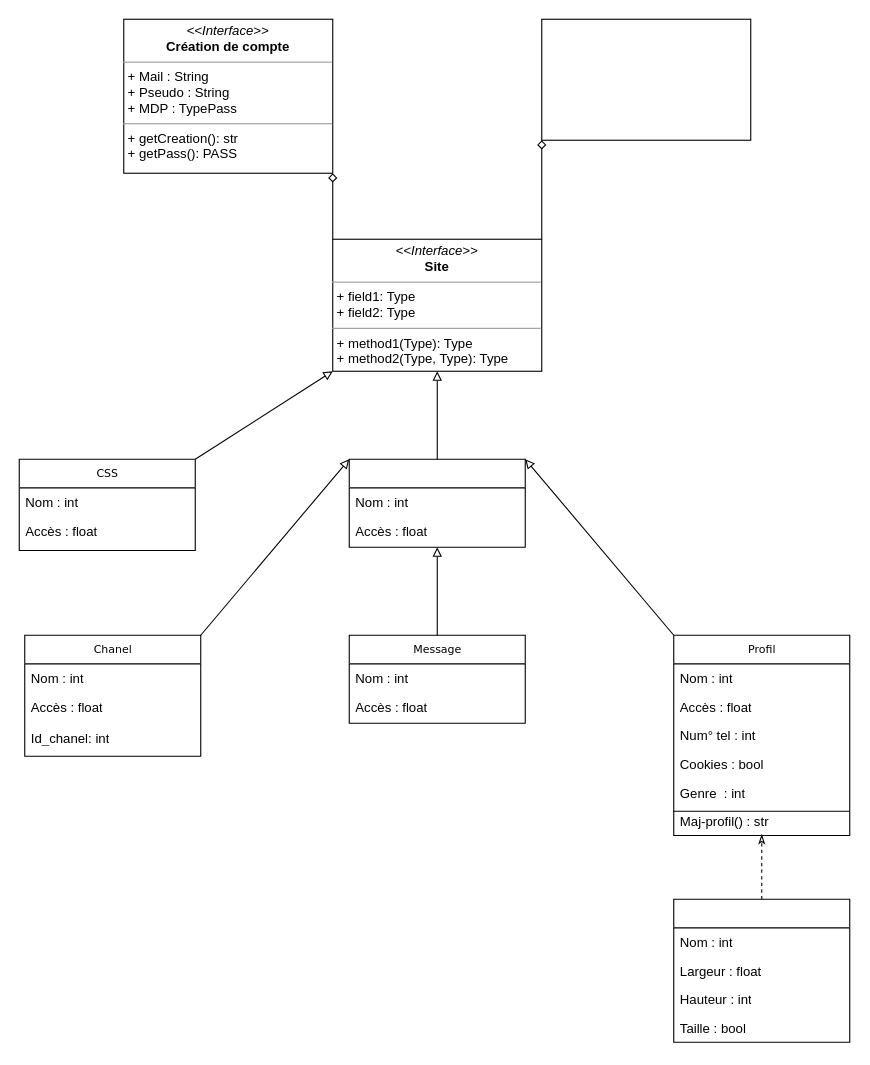
Some shapes in this 870 by 1065 pixel diagram are drawn without their labels. The shapes that lost their labels are listed below. From the top down, each one's box as (x1, y1, x2, y2) in pixels, then its label:
(541, 18, 751, 140): <<Interface>> Login + Mail: String + MDP: TypePass + getPass(): PASS
(348, 458, 525, 547): JS
(673, 898, 850, 1042): Photo
